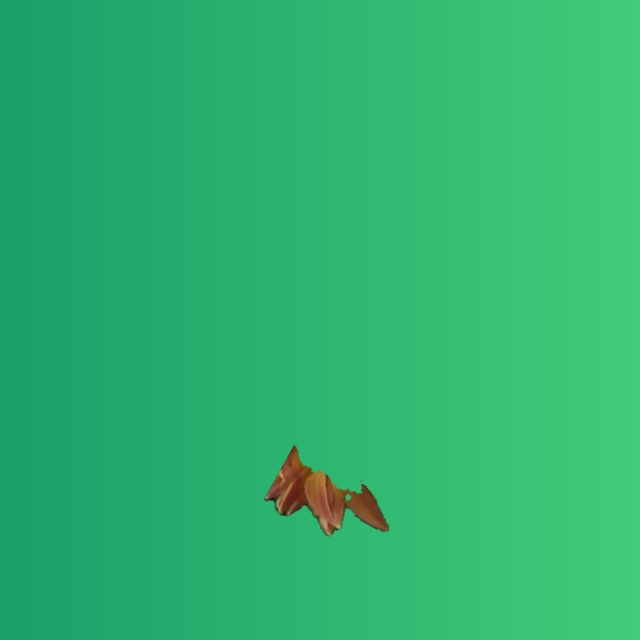dahlia: (264, 445, 388, 535)
